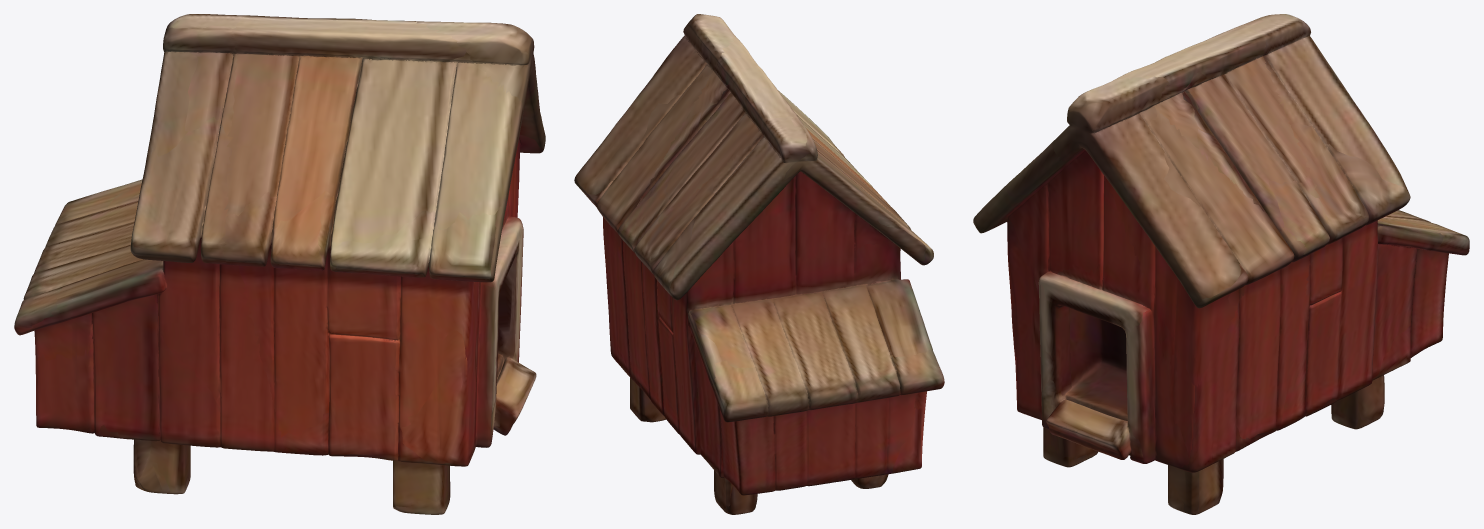
Rendered from chuong-ga.glb.
The picture shows the model from 3 angles, left to right: view 1: azimuth 30°, elevation 25°; view 2: azimuth 150°, elevation 25°; view 3: azimuth 270°, elevation 25°; orthographic projection. The views are drawn at different scales.
Bounding box in the file's own units: 0.2035 × 0.1762 × 0.1971.
Materials: 1 (1 with a texture image).
